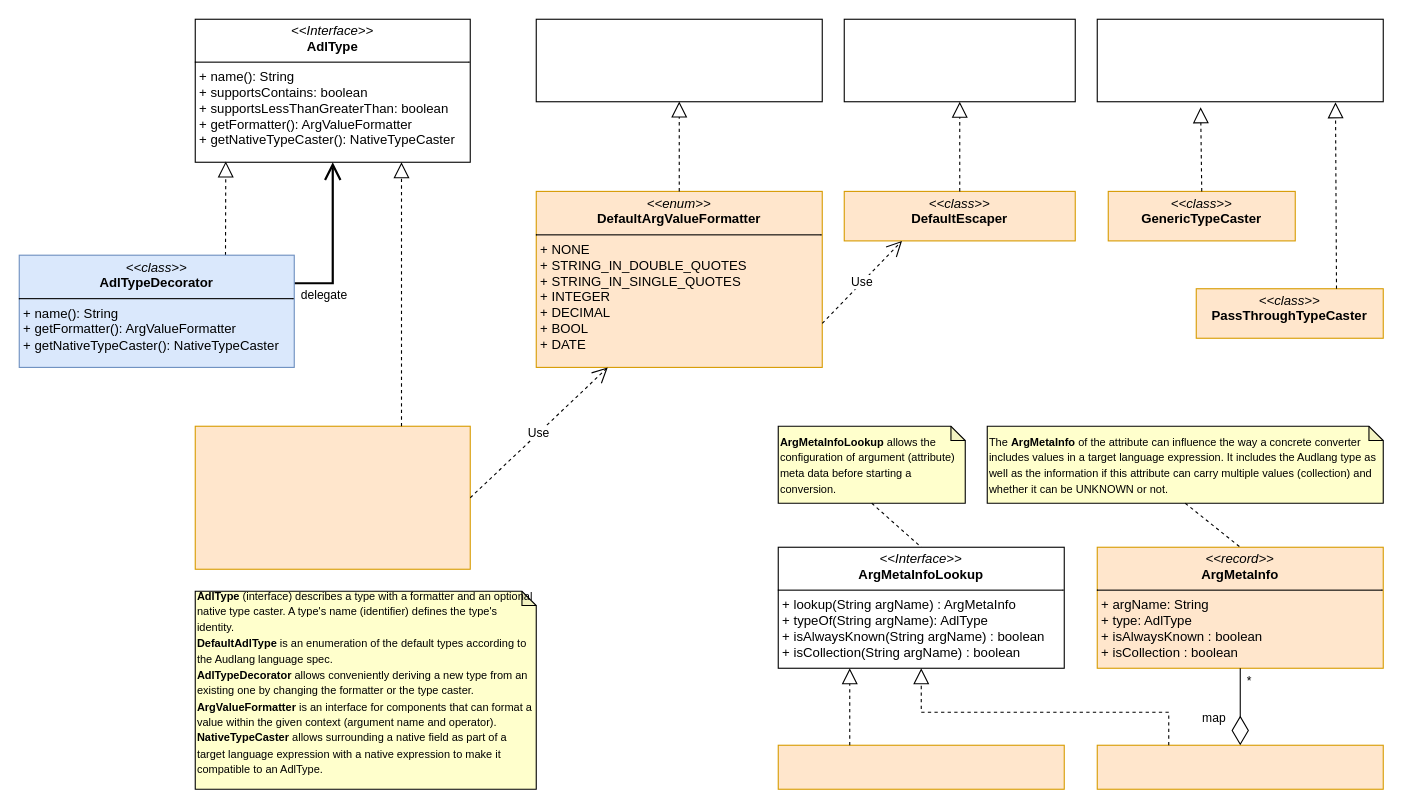
The diagram is 1403 pixels wide and 812 high, and some of its shapes have lost their labels. The box of each missing label's shape, as (x1, y1, x2, y2) in pixels:
<<enum>> DefaultAdlType + STRING + INTEGER + DECIMAL + BOOL + DATE: (194, 425, 470, 569)
<<Interface>> ArgValueFormatter + format(String argName, String argValue, ...): (535, 18, 822, 102)
<<Interface>> NativeEscaper + append(StringBuilder sb, char ch): (843, 18, 1075, 102)
<<Interface>> NativeTypeCaster + formatNativeTypeCase(...): (1096, 18, 1383, 102)
<<record>> DefaultArgMetaInfoLookup: (1096, 744, 1383, 789)
DefaultArgMetaInfoLookup: (777, 744, 1064, 789)
